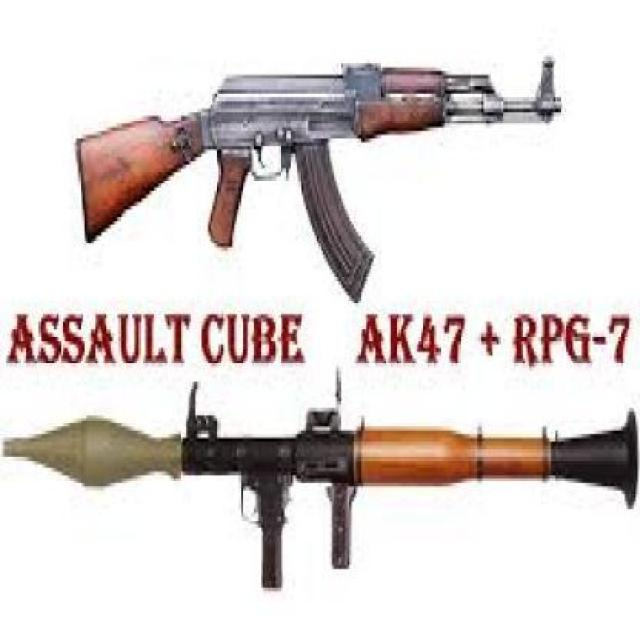weapon: (26, 14, 589, 309), (0, 373, 640, 611)
